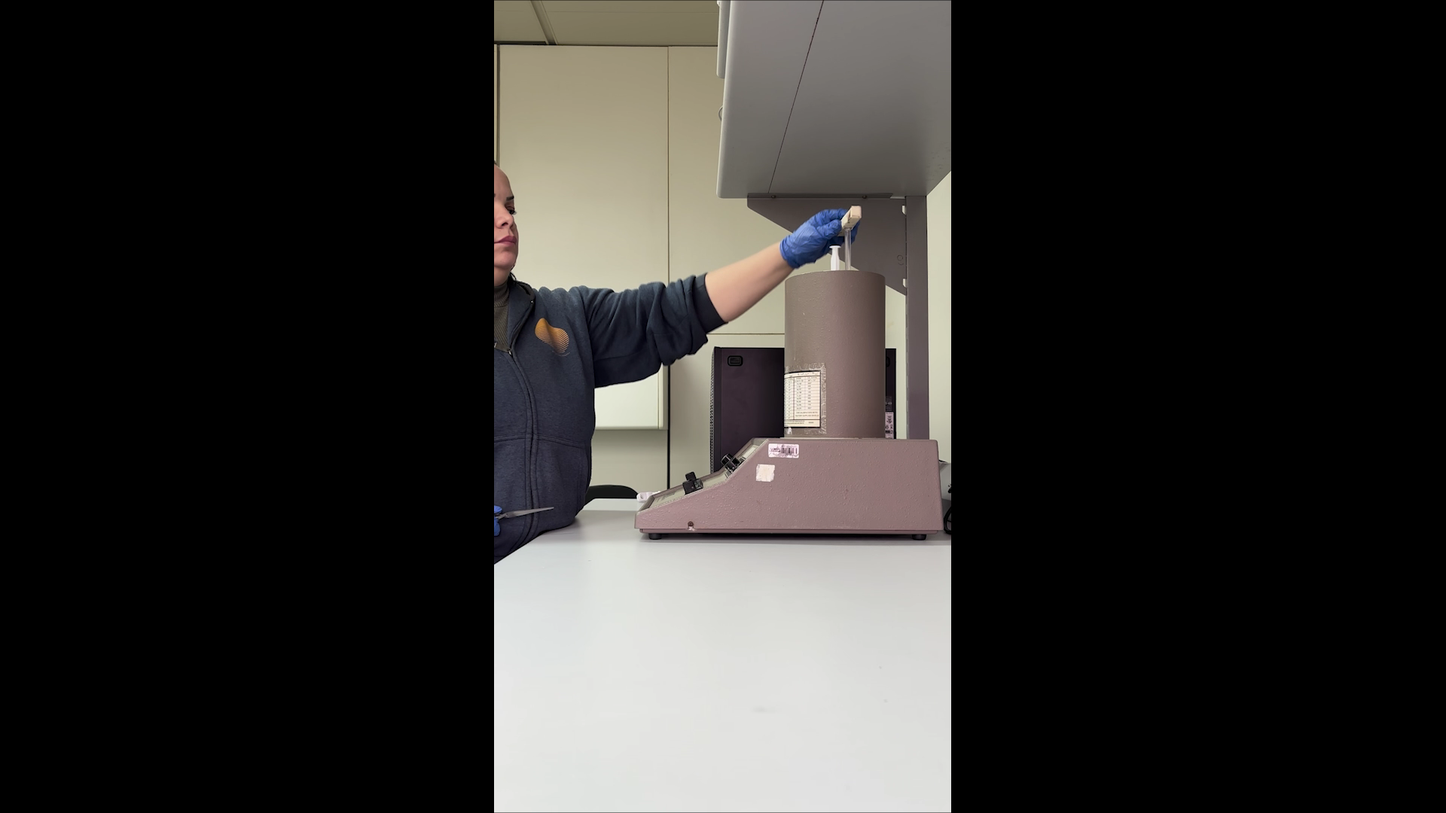Amostra: (829, 244, 840, 269)
Ativimetro: (782, 268, 887, 437)
Com_Luva: (780, 205, 859, 266)
